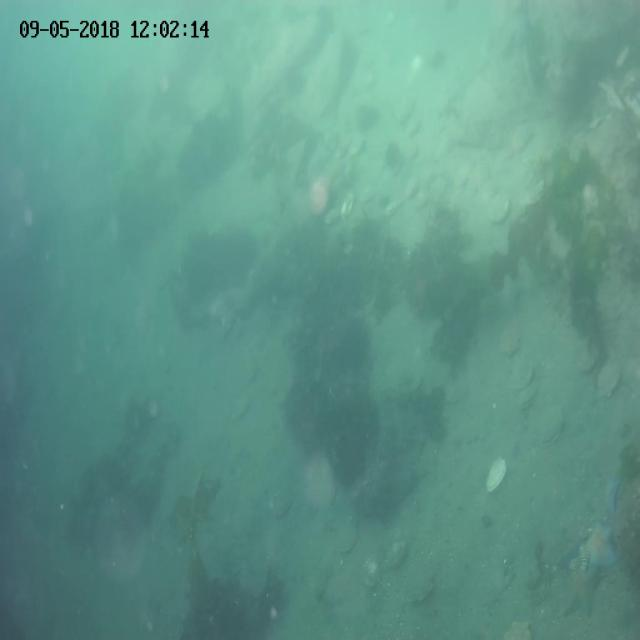scallop: (404, 567, 437, 606), (535, 405, 565, 445), (481, 456, 508, 492), (596, 357, 620, 396), (486, 195, 512, 228), (359, 556, 384, 590), (526, 571, 550, 605), (308, 178, 329, 214), (520, 177, 545, 207), (337, 521, 360, 553), (385, 540, 410, 568), (501, 617, 531, 640), (512, 361, 534, 392), (499, 326, 522, 355), (518, 383, 538, 408)
starfish: (561, 556, 603, 618), (582, 525, 619, 566), (588, 473, 623, 515)
